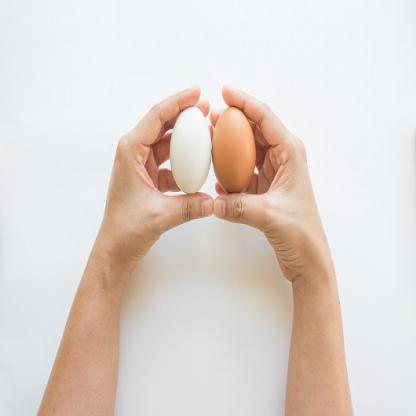egg: (199, 81, 267, 196), (166, 102, 220, 200)
